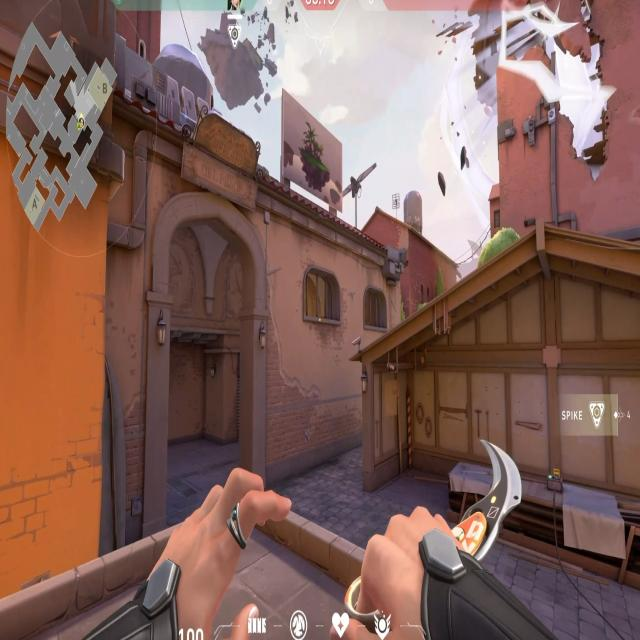B_Garage_Left: (355, 353, 465, 493)
Throwables: (300, 258, 345, 332), (360, 278, 393, 339)
